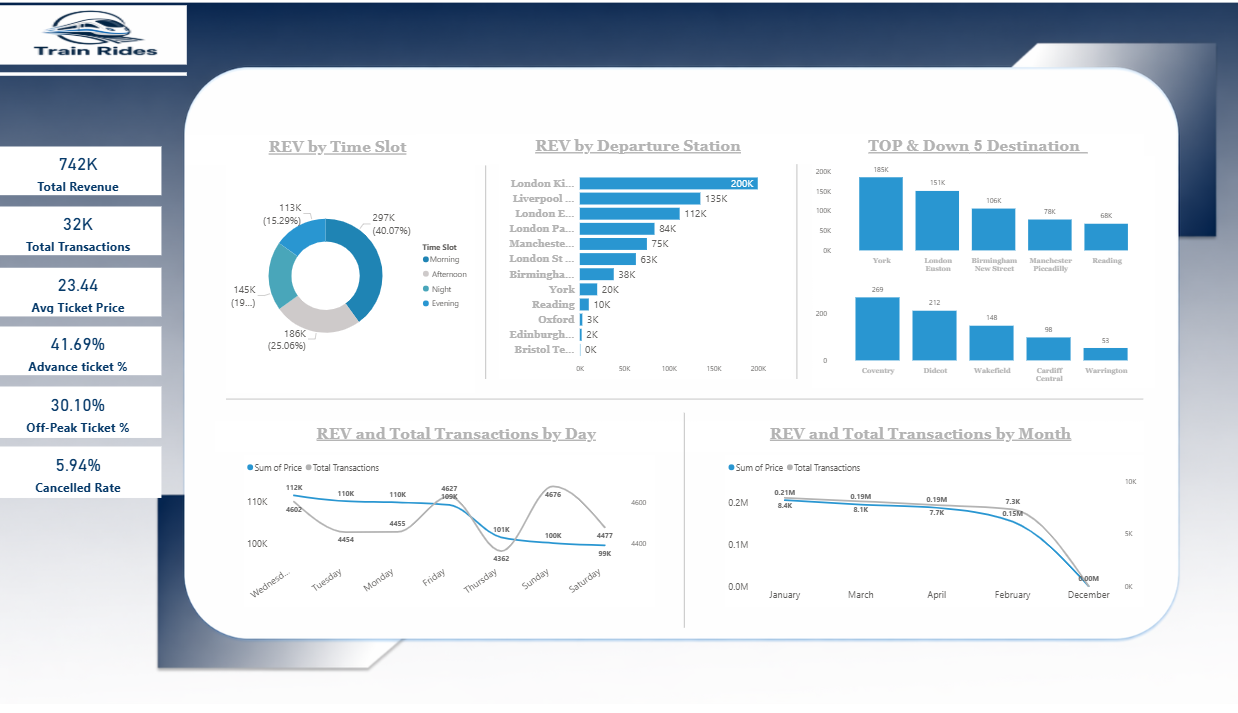

Layout of this report page (visuals, bound fields, positions):
{"tool":"powerbi","page":{"name":" revenue2","canvas":[2150,1270],"ordinal":2},"visuals":[{"type":"image","box":[0,22.2,2151.1,1248.9],"z":0},{"type":"donutChart","fields":{"Category":["railway.Time Slot"],"Y":["Sum(railway.Price)"]},"box":[399,310.6,429.2,403.3],"z":1000},{"type":"clusteredBarChart","title":"REV by Departure Station","fields":{"Category":["railway.Departure Station"],"Y":["Sum(railway.Price)"]},"box":[869.2,319.2,506.9,371],"z":2000},{"type":"clusteredColumnChart","title":"TOP 5 Destination by sales ","fields":{"Category":["railway.Arrival Destination"],"Y":["Sum(railway.Price)"]},"box":[1410.6,306.3,591,209.2],"z":3000},{"type":"clusteredColumnChart","title":"Down 5 Destination by sales ","fields":{"Category":["railway.Arrival Destination"],"Y":["Sum(railway.Price)"]},"box":[1410.6,513.4,591,192],"z":4000},{"type":"lineChart","fields":{"Y":["Sum(railway.Price)"],"Category":["railway.Month Name"],"Y2":["railway.Total Transactions"]},"box":[1260,822.2,722.2,262.2],"z":5000},{"type":"lineChart","fields":{"Y":["Sum(railway.Price)"],"Category":["railway.Day Name"],"Y2":["railway.Total Transactions"]},"box":[428.9,822.2,708.9,262.2],"z":6000},{"type":"shape","box":[1319.6,306.6,127.3,383.9],"z":7000},{"type":"shape","box":[782.4,306.6,127.3,383.9],"z":8000},{"type":"shape","box":[400,611.1,1582.2,228.9],"z":9000},{"type":"textbox","box":[726.4,267.7,765.7,51.8],"z":10000},{"type":"textbox","box":[1410.2,267.7,571.6,51.8],"z":11000},{"type":"textbox","box":[330,269.6,522,51.8],"z":12000},{"type":"textbox","box":[380.5,762.9,832.6,51.8],"z":13000},{"type":"textbox","box":[1213,762.9,770,51.8],"z":14000},{"type":"shape","box":[3,125.2,328.9,77.8],"z":15000},{"type":"image","box":[3,45.2,328.9,102.2],"z":16000},{"type":"card","fields":{"Values":["railway.Total Revenue"]},"box":[0,289,286.9,84.1],"z":17000},{"type":"card","fields":{"Values":["railway.Avg Ticket Price"]},"box":[0,498.3,286.9,84.1],"z":18000},{"type":"card","fields":{"Values":["railway.Total Transactions"]},"box":[0,392.6,286.9,84.1],"z":19000},{"type":"card","fields":{"Values":["railway.Advance %"]},"box":[0,599.6,286.9,84.1],"z":20000},{"type":"card","fields":{"Values":["railway.Off-Peak Ticket %"]},"box":[0,703.2,286.9,88.4],"z":21000},{"type":"shape","box":[1125.9,748.5,127.3,371],"z":22000},{"type":"card","fields":{"Values":["railway.Cancelled Rate"]},"box":[0,806.7,286.9,88.4],"z":23000}]}

Visuals, with their boxes in screenshot pixels (x1, y1, x2, y2), scaled from the page's 2150x1270 canvas onto the 1238x713 screenshot:
image: <bbox>0, 12, 1237, 712</bbox>
donutChart - railway.Time Slot x Sum(railway.Price): <bbox>230, 174, 477, 401</bbox>
"REV by Departure Station" clusteredBarChart: <bbox>500, 179, 792, 387</bbox>
"TOP 5 Destination by sales " clusteredColumnChart: <bbox>812, 172, 1153, 289</bbox>
"Down 5 Destination by sales " clusteredColumnChart: <bbox>812, 288, 1153, 396</bbox>
lineChart - Sum(railway.Price) x railway.Month Name: <bbox>726, 462, 1141, 609</bbox>
lineChart - Sum(railway.Price) x railway.Day Name: <bbox>247, 462, 655, 609</bbox>
shape: <bbox>760, 172, 833, 388</bbox>
shape: <bbox>451, 172, 524, 388</bbox>
shape: <bbox>230, 343, 1141, 472</bbox>
textbox: <bbox>418, 150, 859, 179</bbox>
textbox: <bbox>812, 150, 1141, 179</bbox>
textbox: <bbox>190, 151, 491, 180</bbox>
textbox: <bbox>219, 428, 699, 457</bbox>
textbox: <bbox>698, 428, 1142, 457</bbox>
shape: <bbox>2, 70, 191, 114</bbox>
image: <bbox>2, 25, 191, 83</bbox>
card - railway.Total Revenue: <bbox>0, 162, 165, 209</bbox>
card - railway.Avg Ticket Price: <bbox>0, 280, 165, 327</bbox>
card - railway.Total Transactions: <bbox>0, 220, 165, 268</bbox>
card - railway.Advance %: <bbox>0, 337, 165, 384</bbox>
card - railway.Off-Peak Ticket %: <bbox>0, 395, 165, 444</bbox>
shape: <bbox>648, 420, 722, 629</bbox>
card - railway.Cancelled Rate: <bbox>0, 453, 165, 503</bbox>
